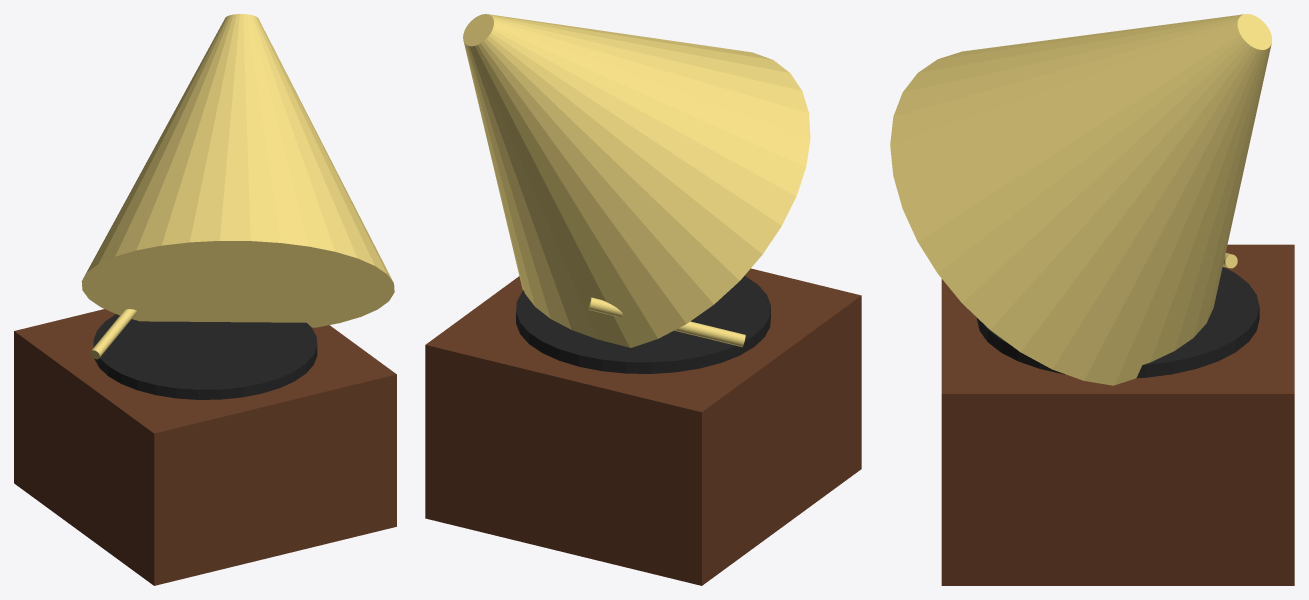
The model's file is audiobook_gramophone.glb.
The picture shows the model from 3 angles, left to right: view 1: azimuth 30°, elevation 25°; view 2: azimuth 150°, elevation 25°; view 3: azimuth 270°, elevation 25°; orthographic projection. The views are drawn at different scales.
Parts seen in each view (by area): view 1: Audiobook_Gramophone; view 2: Audiobook_Gramophone; view 3: Audiobook_Gramophone.
Part boxes in pixels (x1,y1,x2,y2): Audiobook_Gramophone: (14,14,396,585); Audiobook_Gramophone: (425,14,861,585); Audiobook_Gramophone: (890,14,1294,585).
Bounding box in the file's own units: 0.5256 × 0.8556 × 0.5728.
